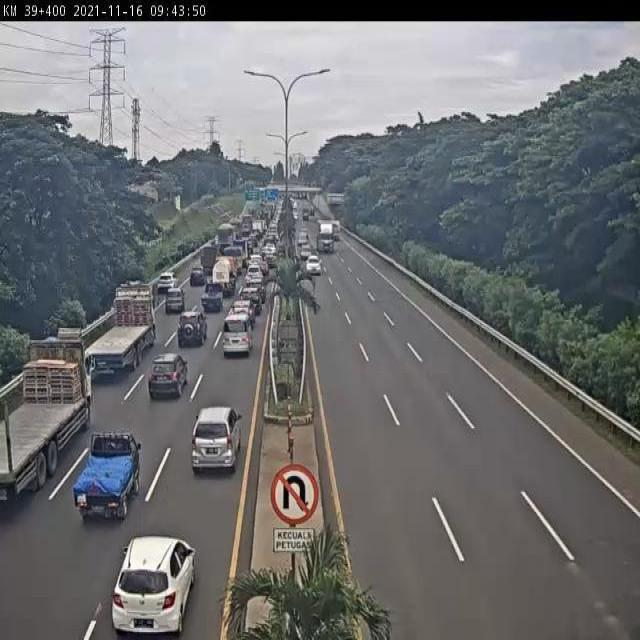car: (113, 535, 195, 637), (75, 434, 144, 526), (192, 407, 245, 476), (148, 353, 188, 403), (223, 314, 253, 354), (176, 314, 207, 350), (199, 283, 223, 316), (230, 300, 254, 333), (240, 287, 262, 313), (164, 291, 186, 317), (155, 272, 177, 293), (248, 277, 268, 299), (189, 265, 206, 287), (246, 265, 264, 284), (307, 257, 320, 272), (248, 255, 264, 267)
truck: (0, 338, 93, 494), (84, 285, 156, 371), (212, 259, 235, 299), (214, 224, 234, 255), (195, 251, 216, 279), (225, 246, 244, 274), (316, 221, 332, 251)
